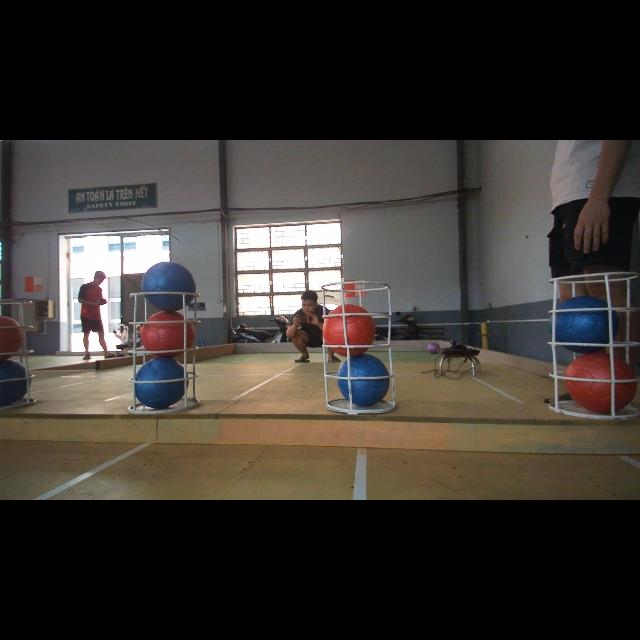B: (552, 295, 618, 351), (134, 357, 192, 409), (140, 262, 198, 312), (341, 357, 394, 408), (1, 359, 34, 407)
R: (564, 354, 638, 414), (322, 304, 378, 354), (141, 310, 197, 358), (0, 312, 28, 360)
